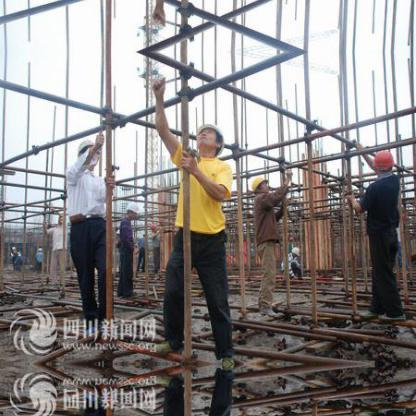helmet: (196, 122, 226, 157), (368, 146, 395, 174), (75, 139, 102, 157), (250, 175, 269, 195), (126, 201, 141, 216), (291, 247, 302, 257)
